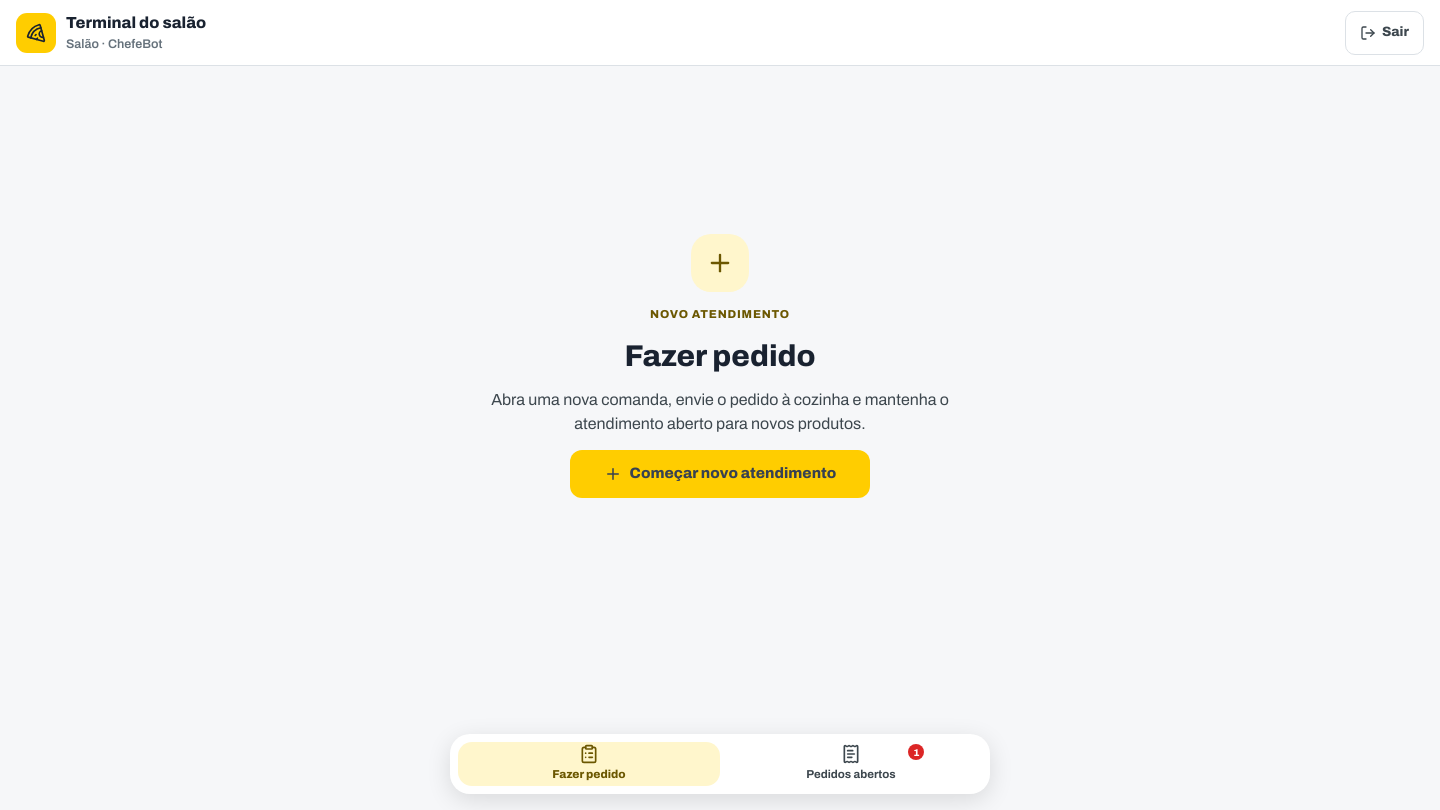
Test: /salao — pedidos abertos e continuidade › mostra comanda, cliente e estado humano da cozinha
Click the button "Pedidos abertos 1" at [851, 764], box [720,742,982,786]
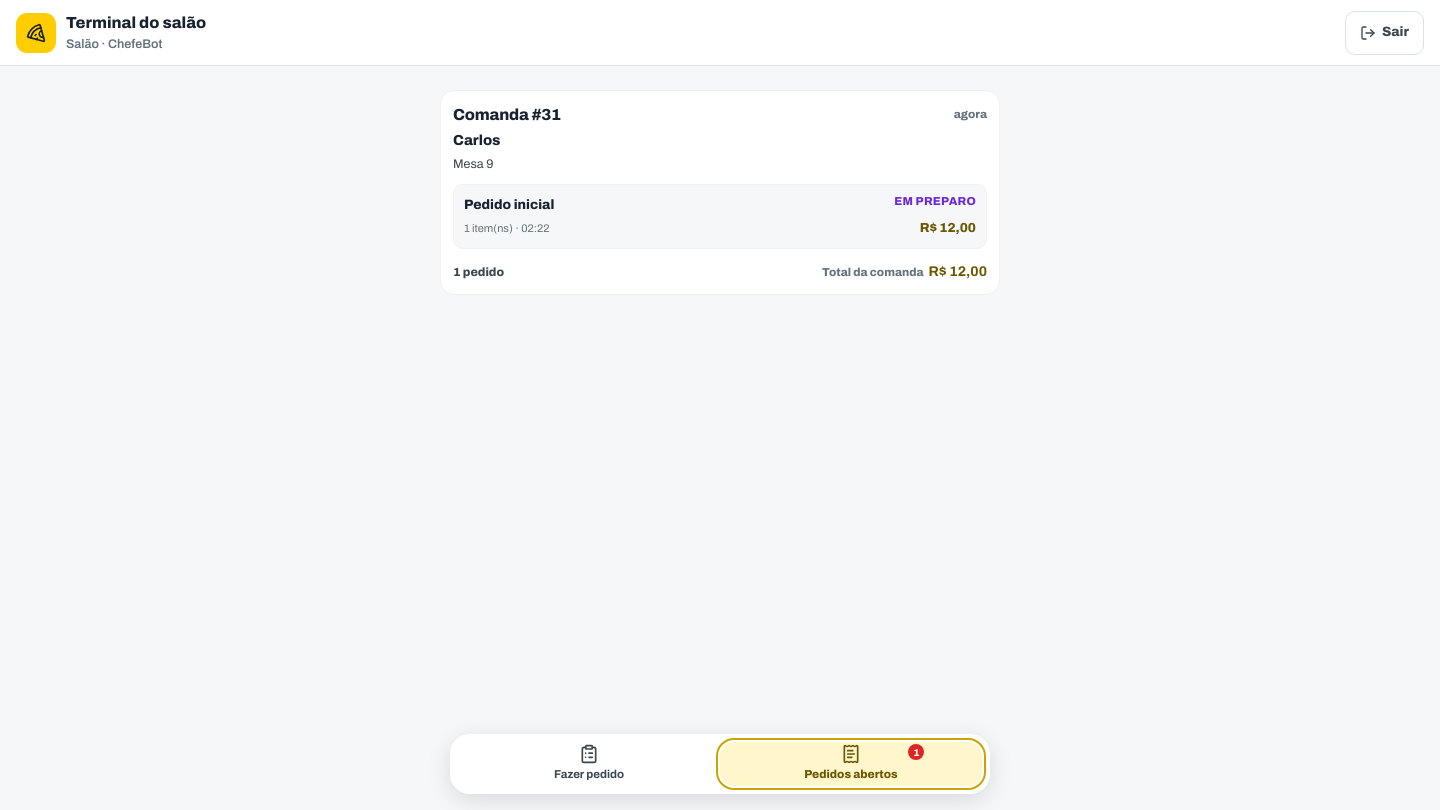
Expected: the text "Comanda #31" is shown, [453,103,561,127]
Expected: the text "Carlos" is shown, [453,132,500,148]
Expected: the text "Em preparo" is shown, [894,194,976,208]
